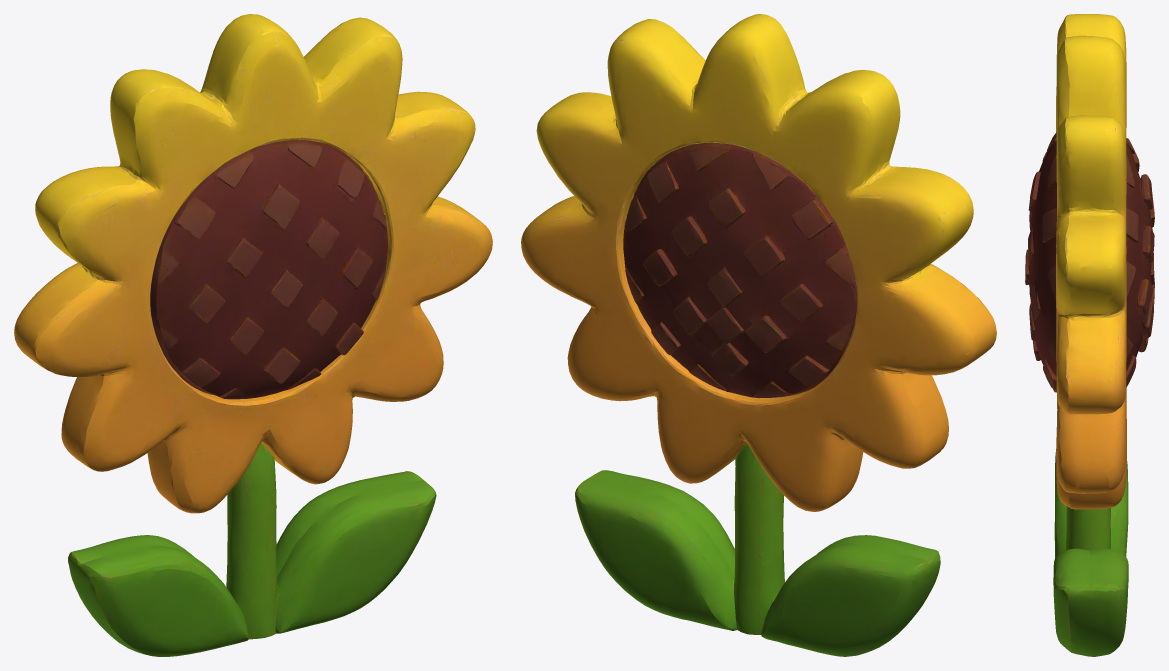
The model's file is sunflower.glb.
3 renders of one model, left to right at view 1: azimuth 30°, elevation 25°; view 2: azimuth 150°, elevation 25°; view 3: azimuth 270°, elevation 25°, orthographic. The views are drawn at different scales.
Visible parts, largest first — view 1: Mesh; view 2: Mesh; view 3: Mesh.
Boxes of the visible parts, x1=… form: Mesh: x1=14, y1=14, x2=492, y2=656; Mesh: x1=521, y1=14, x2=996, y2=656; Mesh: x1=1025, y1=14, x2=1154, y2=656.
Bounding box in the file's own units: 0.7884 × 1 × 0.2044.
1 material, 1 textured.
